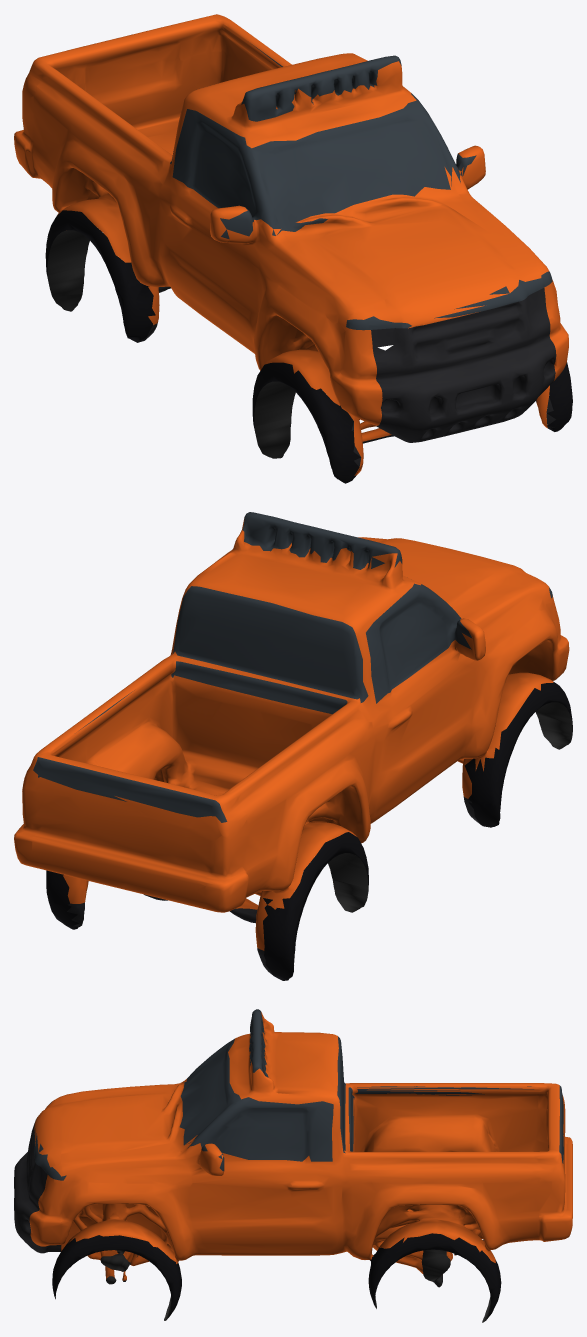
The model's file is ridge.glb.
3 renders of one model, top to bottom at view 1: azimuth 30°, elevation 25°; view 2: azimuth 150°, elevation 25°; view 3: azimuth 270°, elevation 25°, orthographic. The views are drawn at different scales.
Visible parts, largest first — view 1: body; view 2: body; view 3: body.
Part boxes in pixels (bbox=[...]): body: bbox=[14, 14, 572, 483]; body: bbox=[14, 512, 572, 980]; body: bbox=[14, 1009, 572, 1322].
Bounding box in the file's own units: 2.14 × 2.41 × 4.95.
